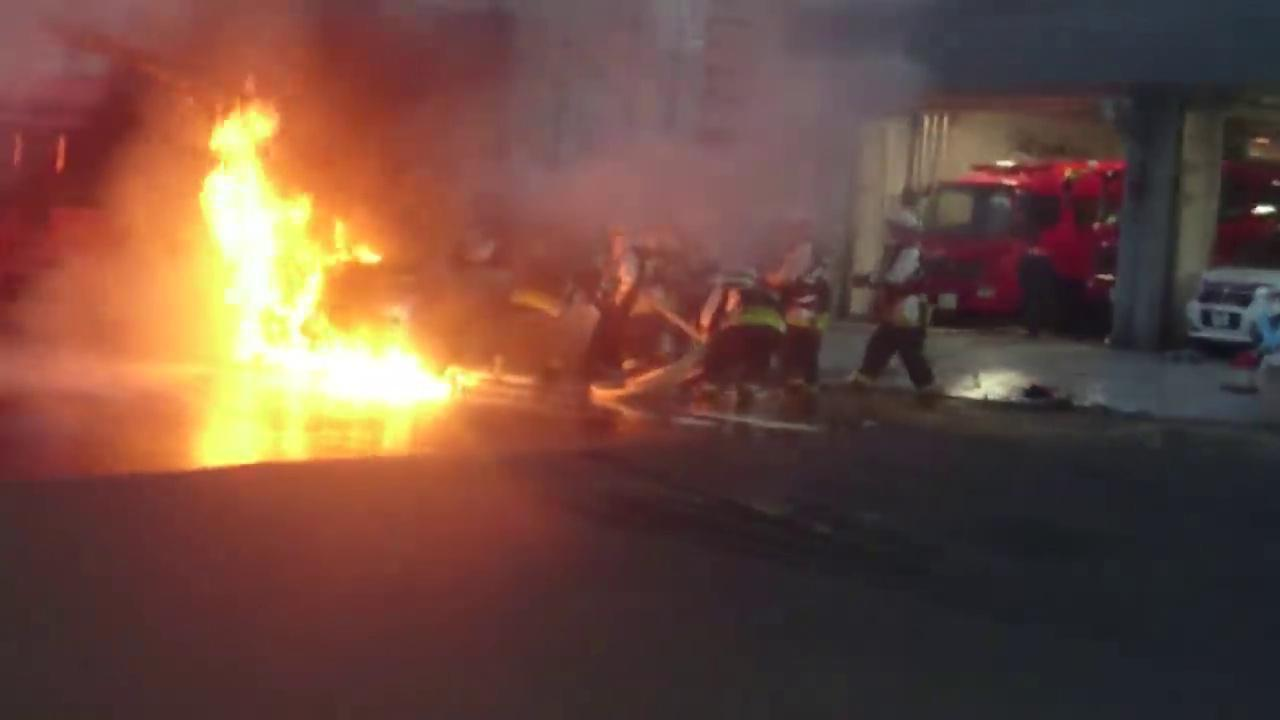Fire: (174, 99, 479, 423)
